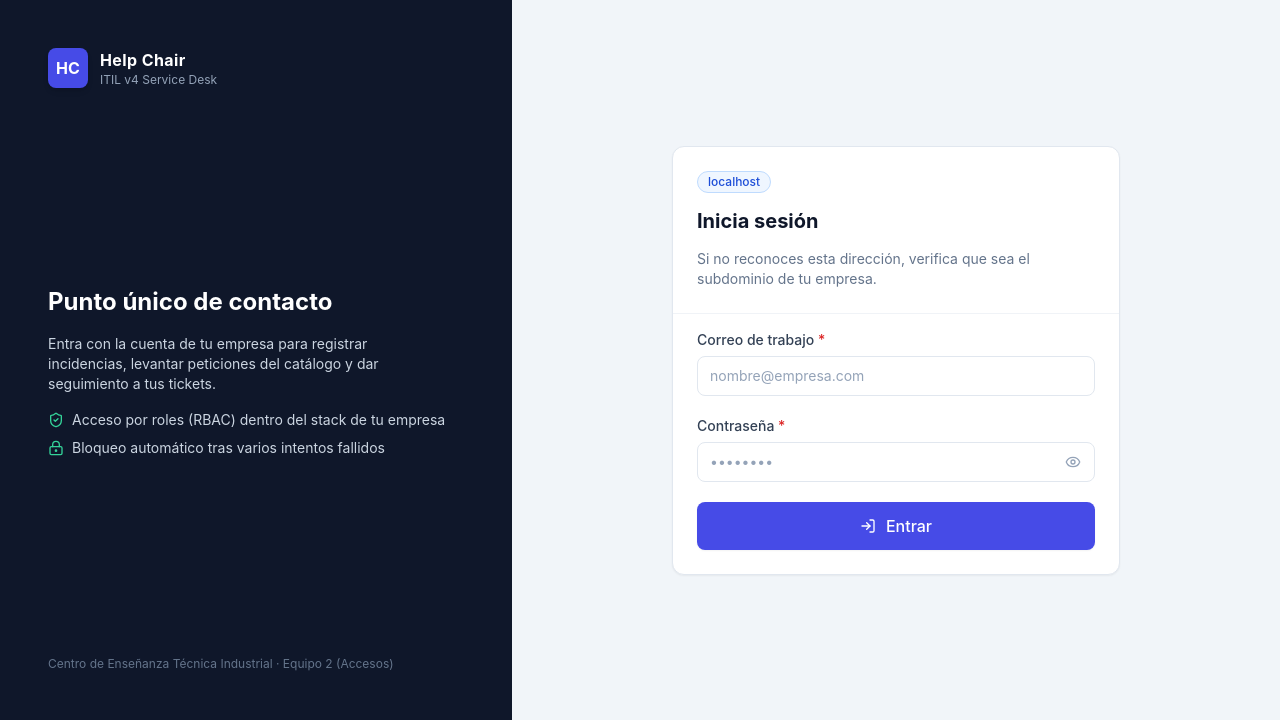
LoginPage › sin conexión con Accesos lo explica y no entra con cuentas simuladas
Type "admin@acme.com" into the field labelled "Correo de trabajo *" at x=896, y=376, box top-left (697, 356), bottom-right (1095, 396)
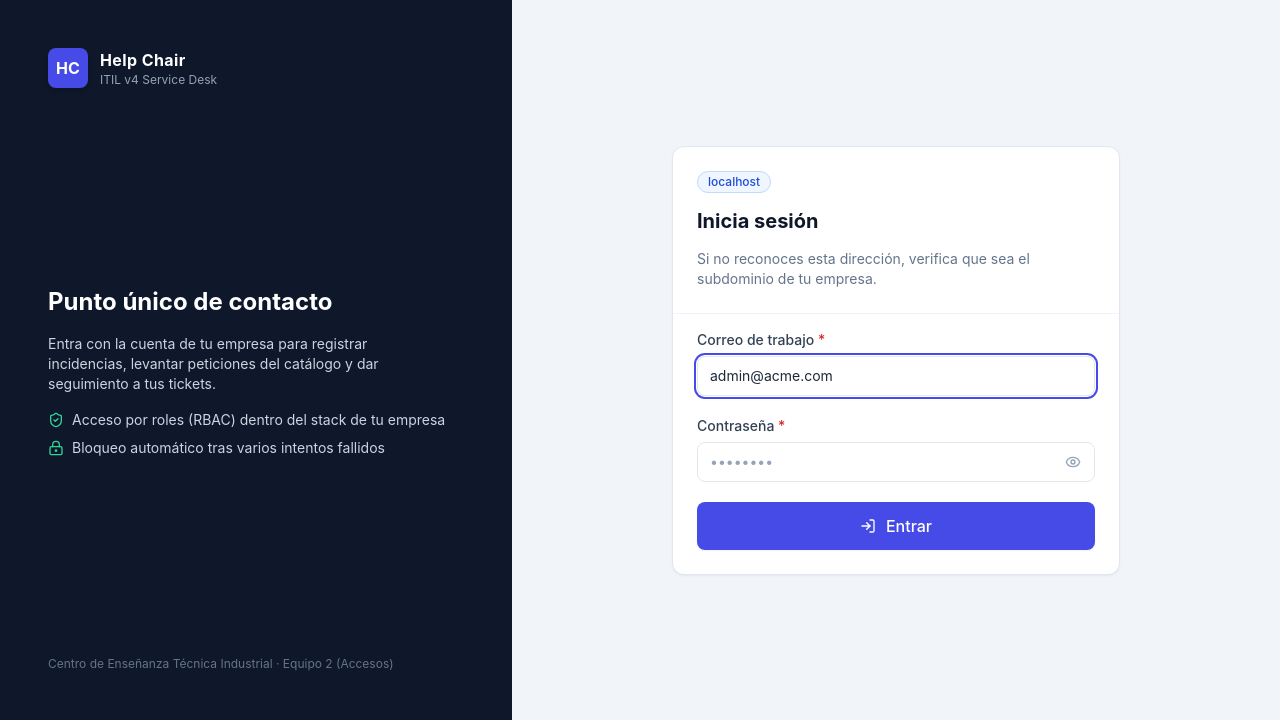
Type "una-clave-muy-larga-1" into the password field labelled "Contraseña *" at x=896, y=462, box top-left (697, 442), bottom-right (1095, 482)
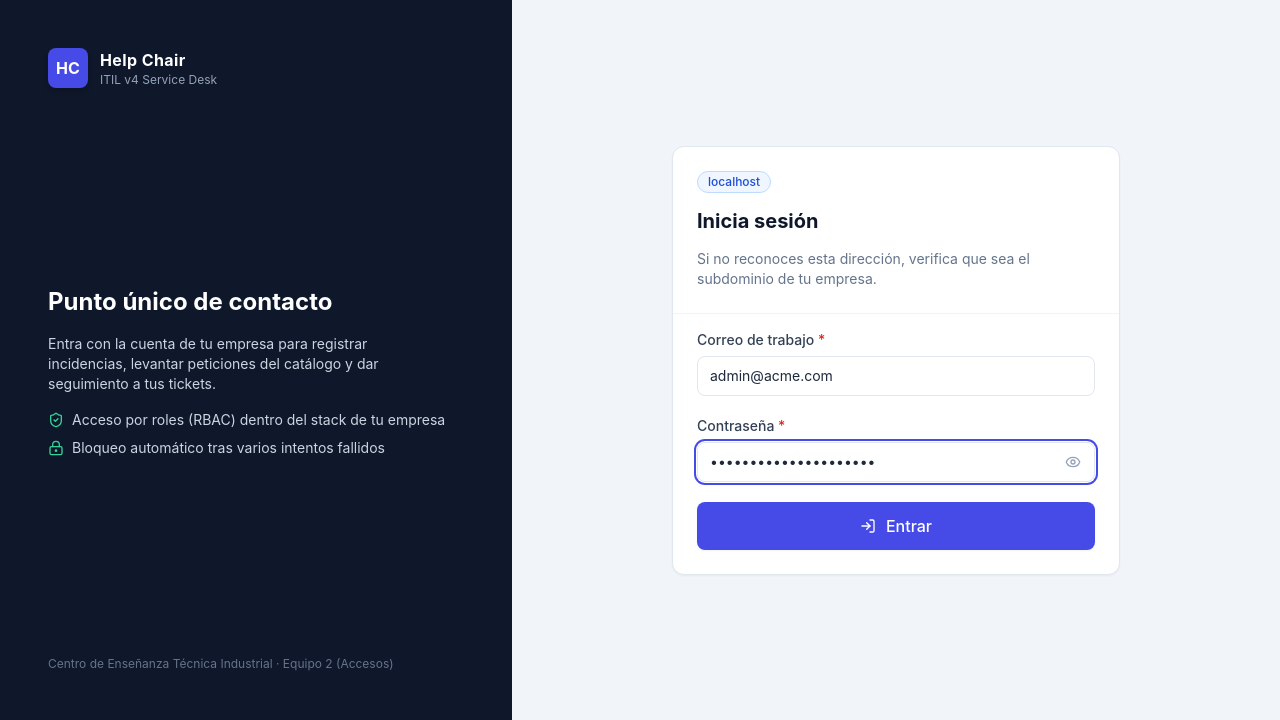
Click the button "Entrar" at x=896, y=526, box top-left (697, 502), bottom-right (1095, 550)
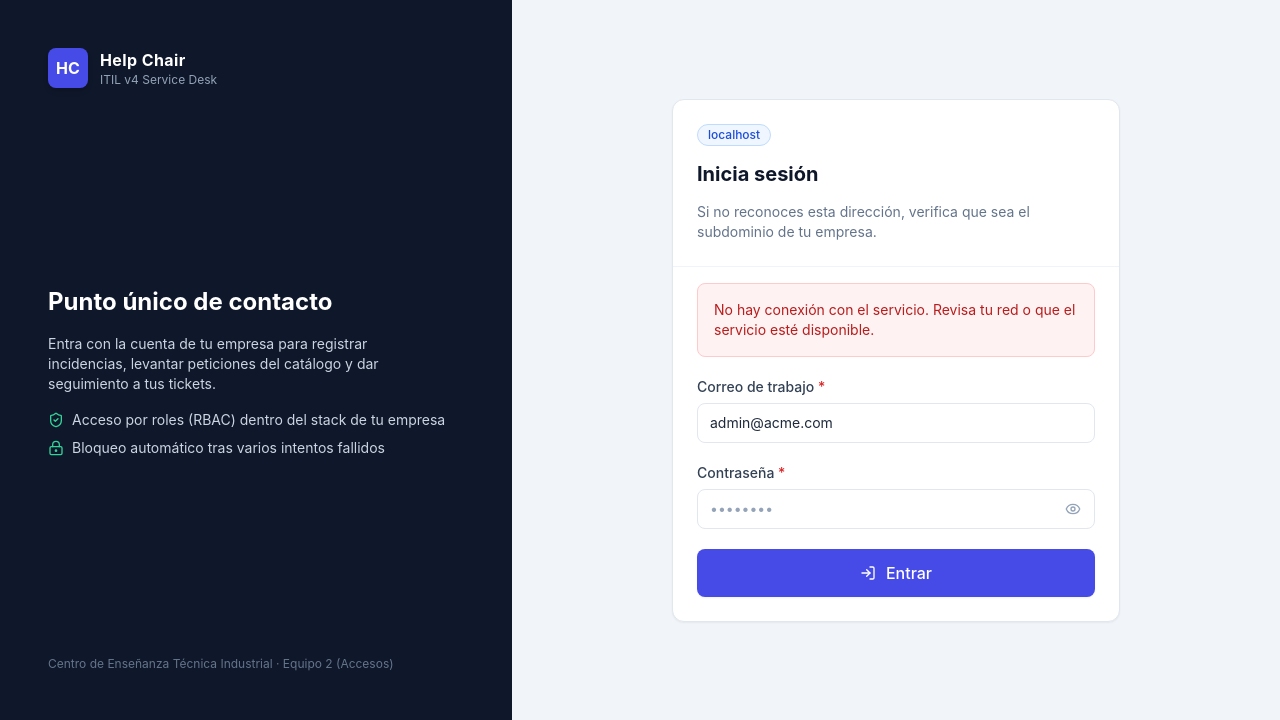
expect the message shows "No hay conexión con el servicio": met, box top-left (714, 300), bottom-right (1075, 338)
